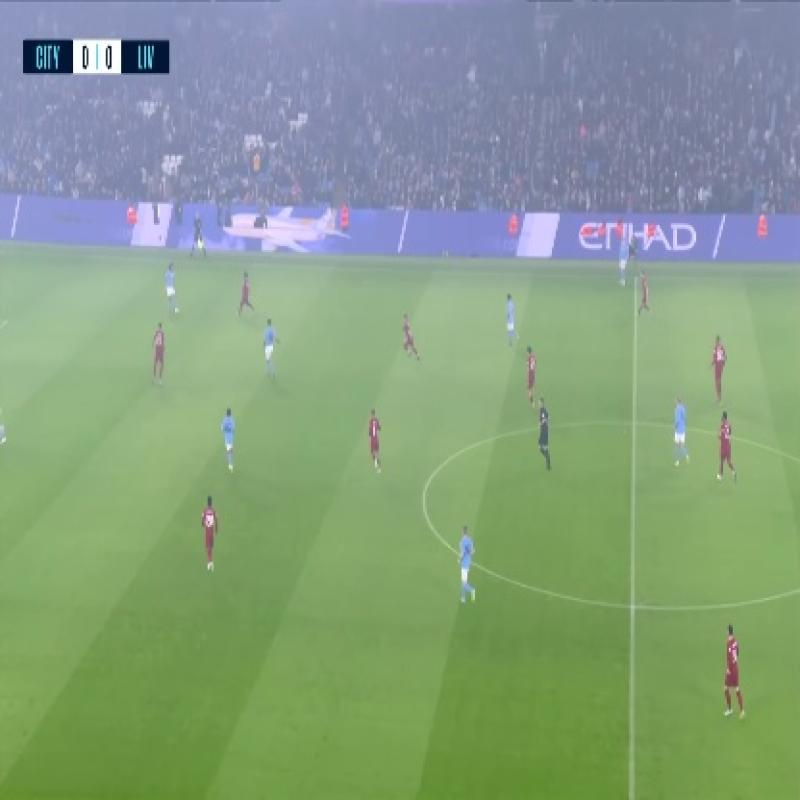13: (628, 264, 646, 284)
14: (621, 408, 644, 436)
15: (616, 584, 648, 626)
9: (0, 304, 19, 336)
c: (412, 477, 438, 515)
